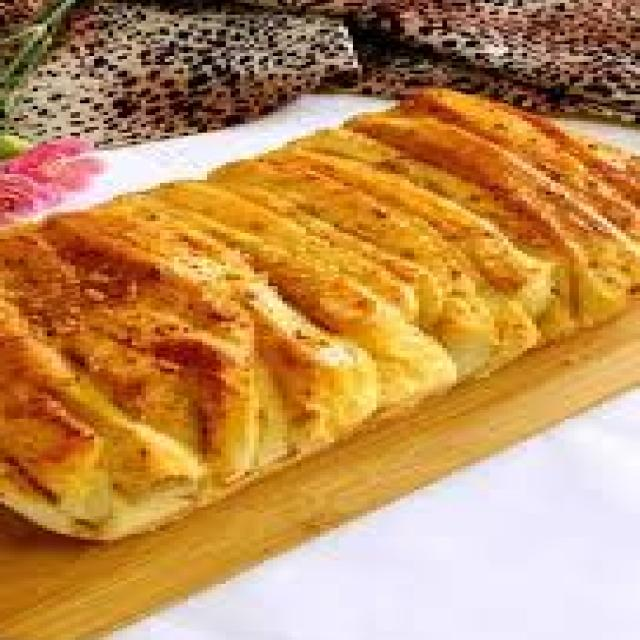inorganic: (12, 122, 640, 562)
